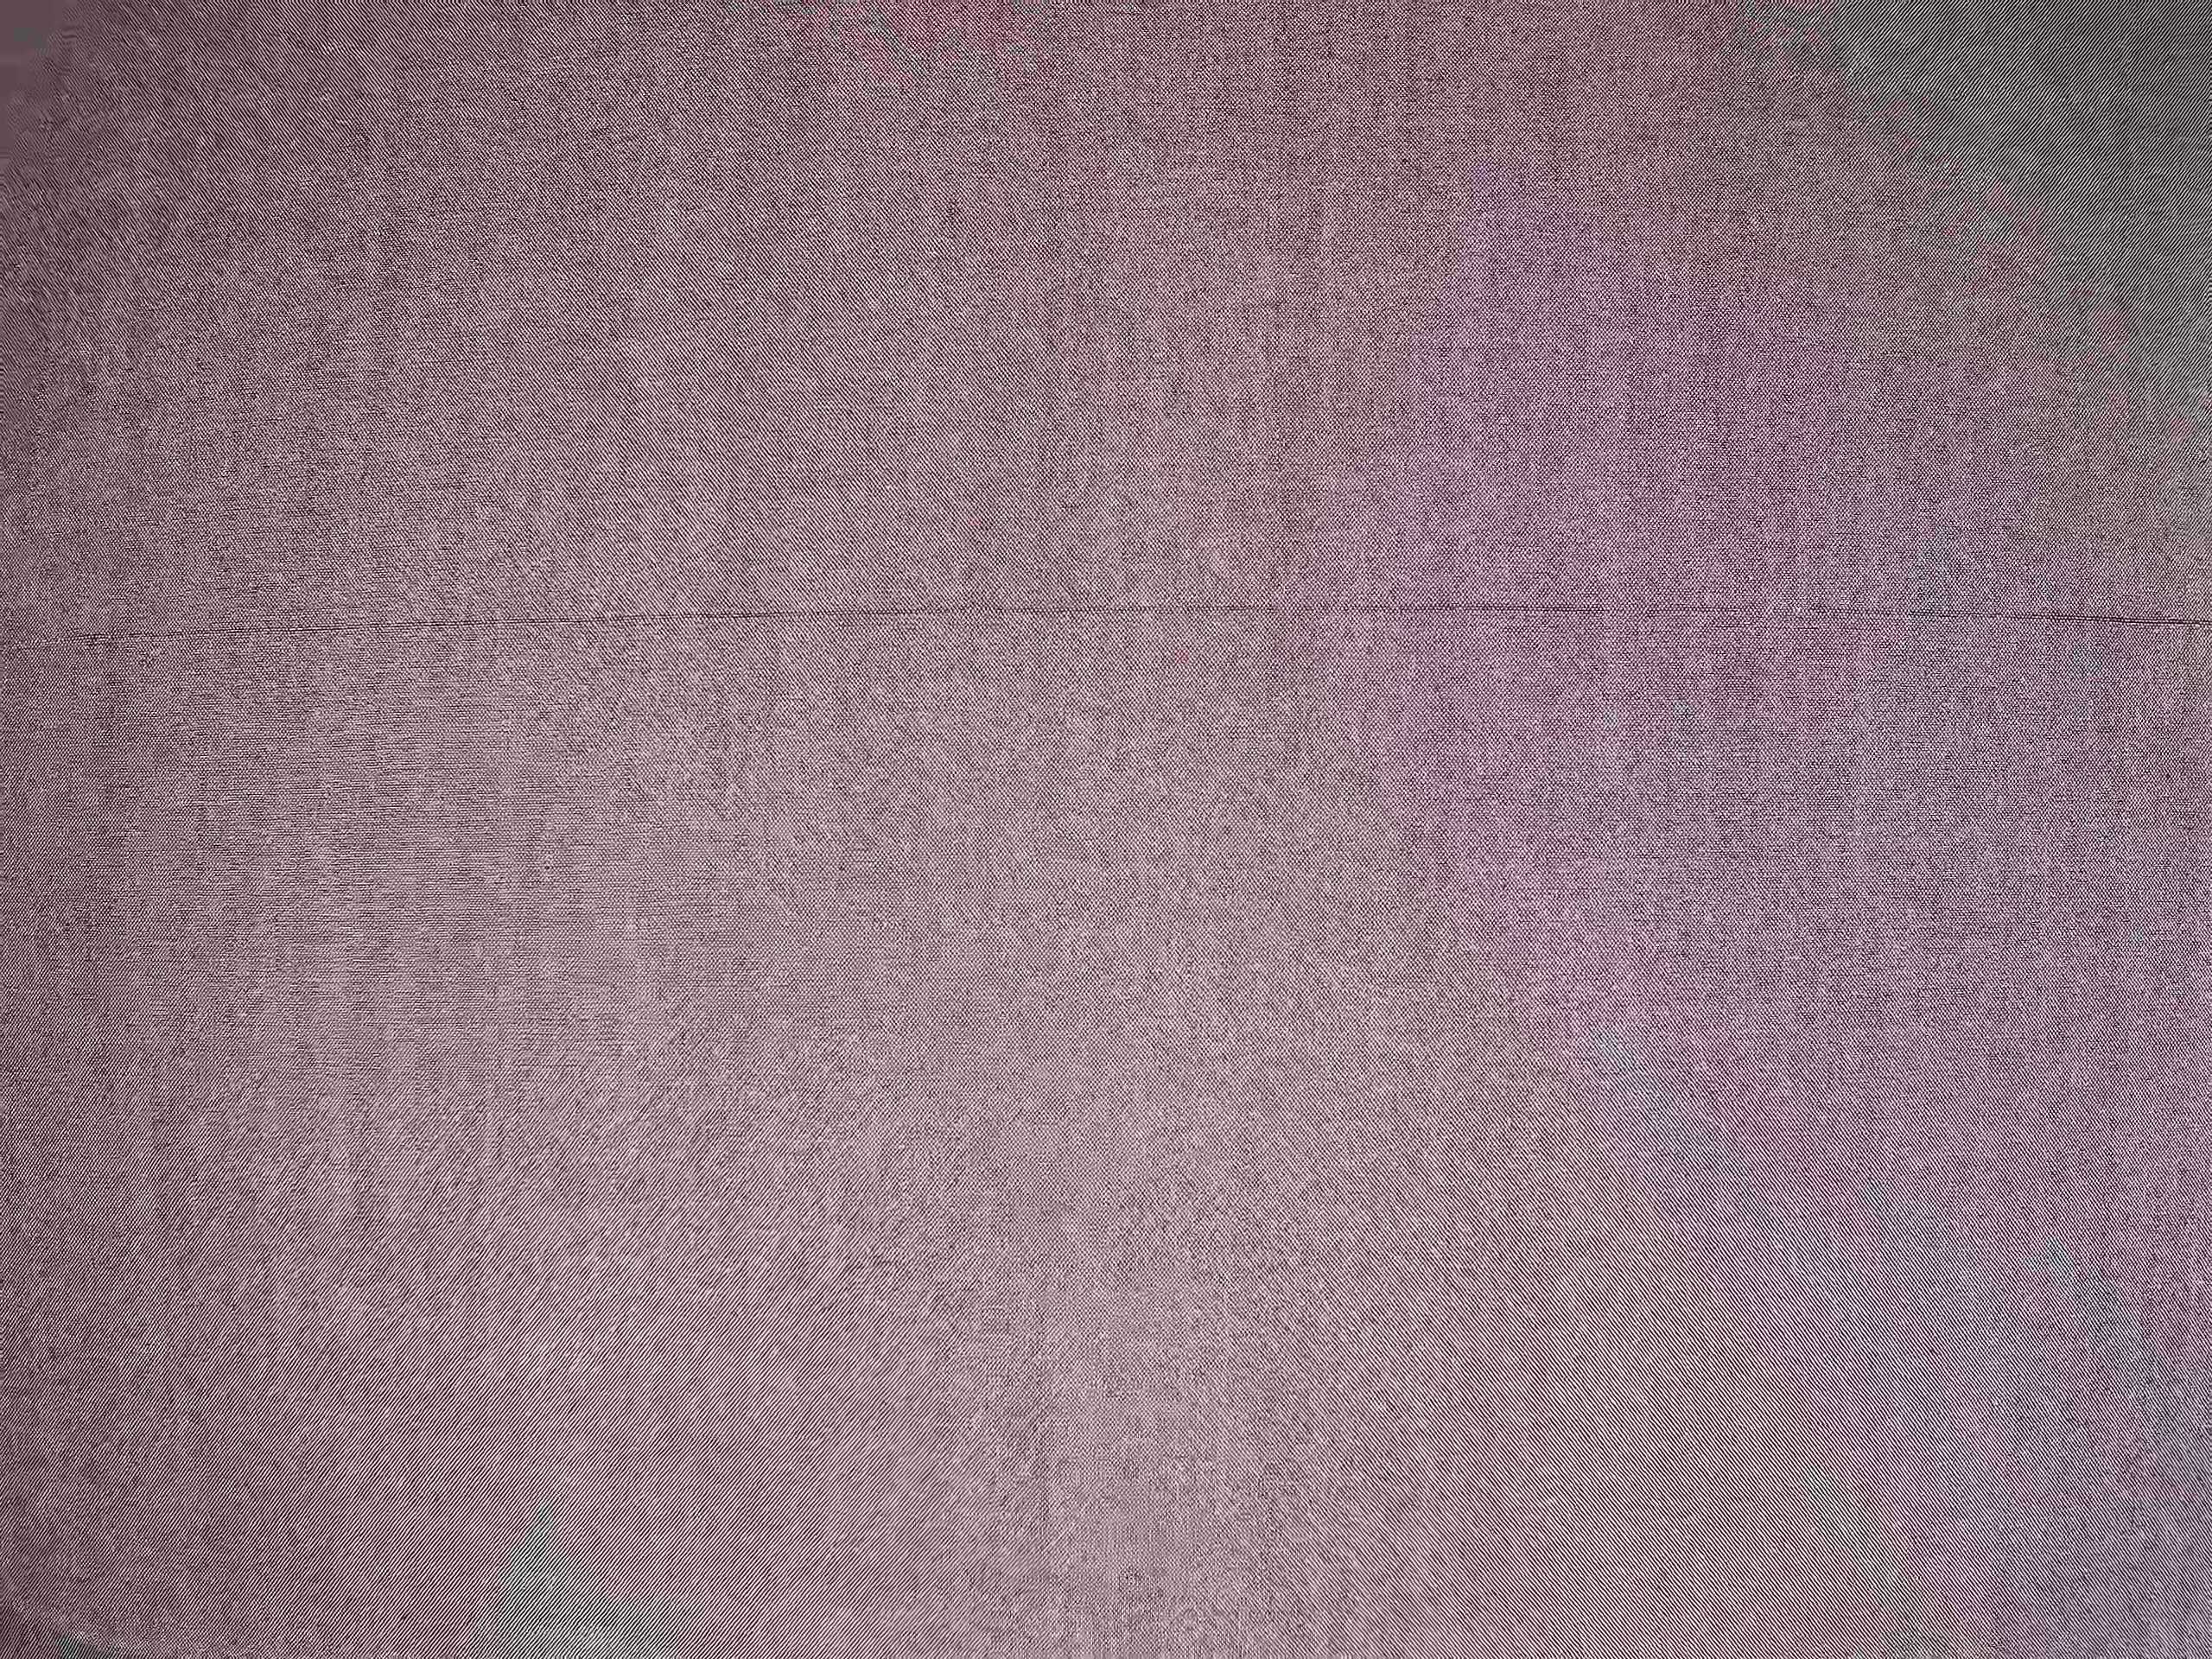thin-spinning: (7, 594, 2212, 652)
